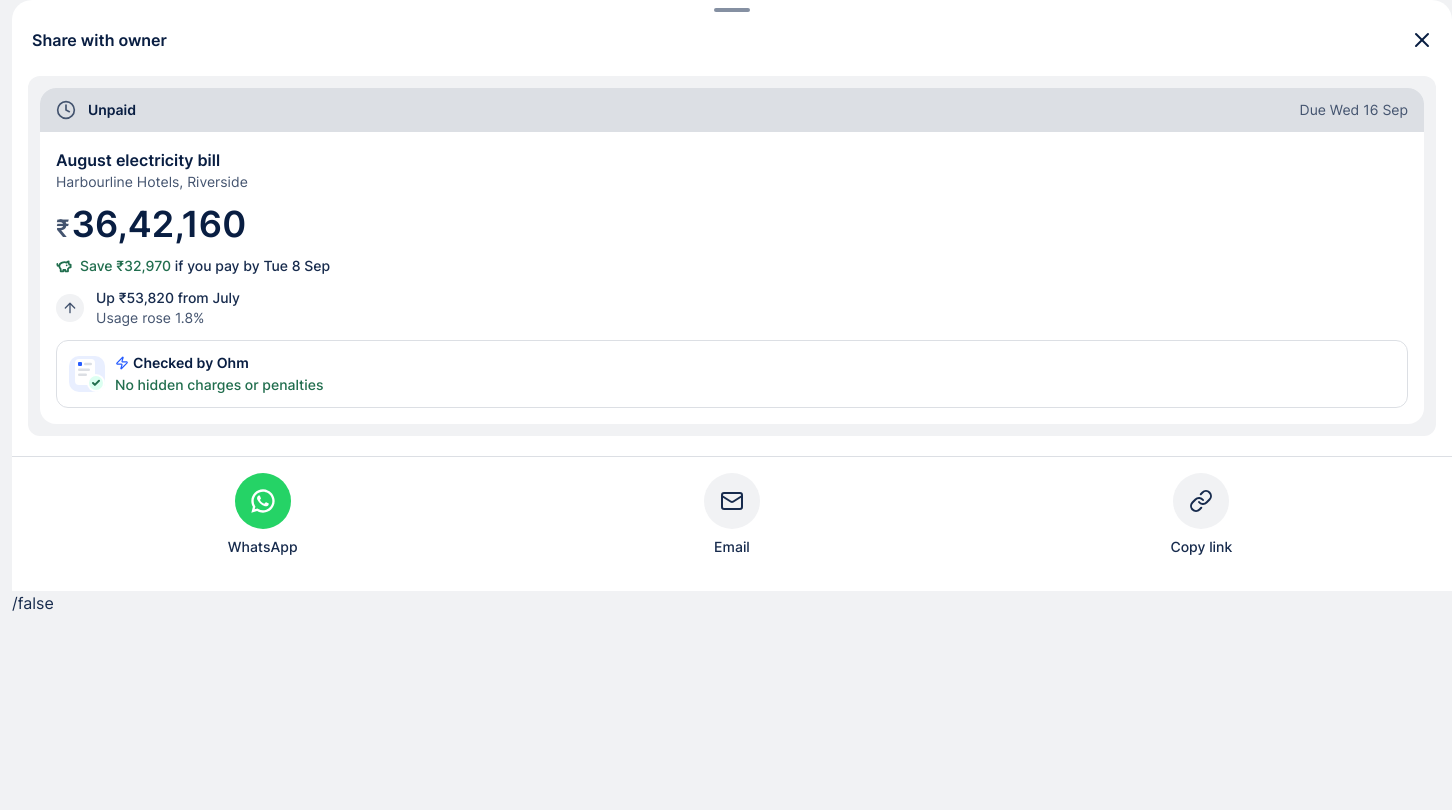
Test case: S09 Share with owner › copies the page address and says so
What coordinates should you click on to do the following:
click the button "Copy link"
I would click on:
 (1201, 515)
Its box is 967,473 -> 1436,557.
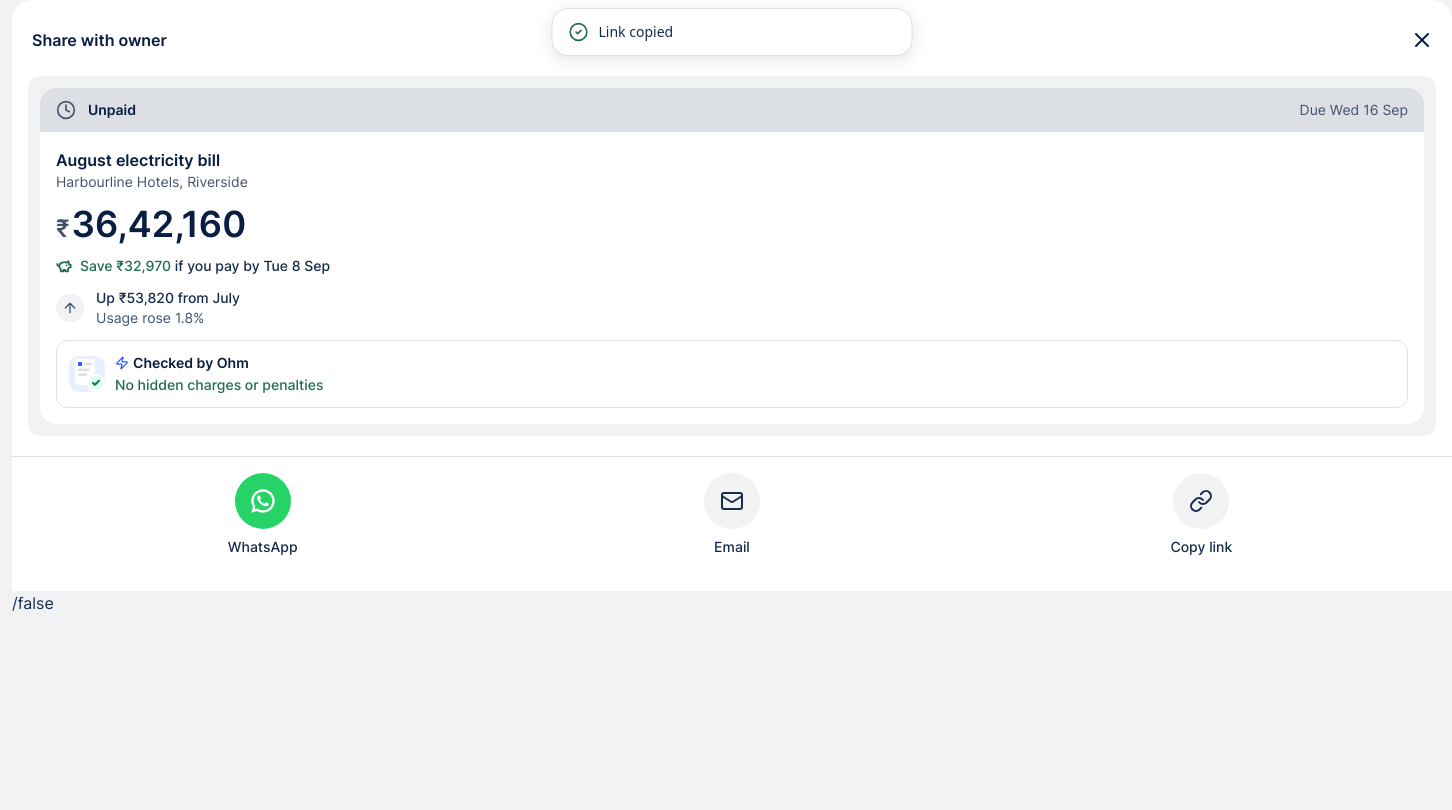
Now the text "Link copied" is shown, box 598,22 -> 673,42
